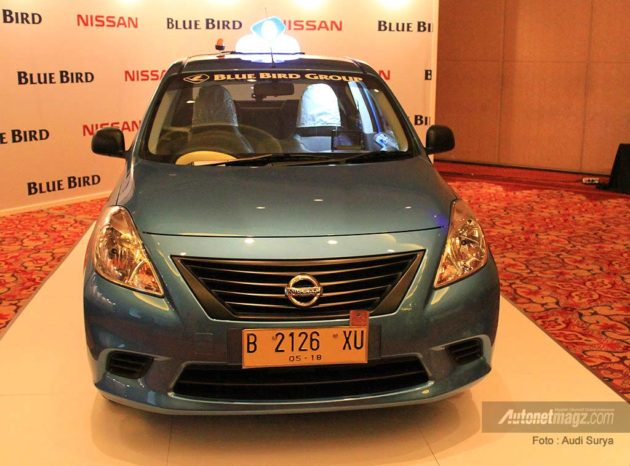plat nomor: (242, 329, 367, 363)
